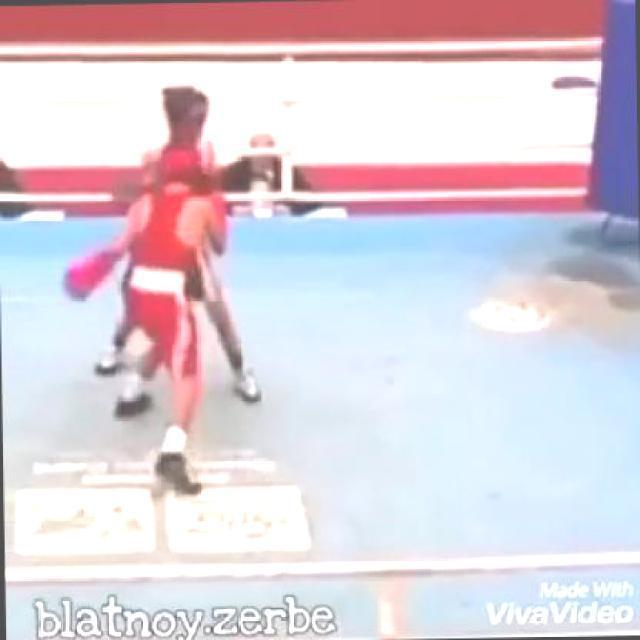fight: (56, 80, 262, 500)
